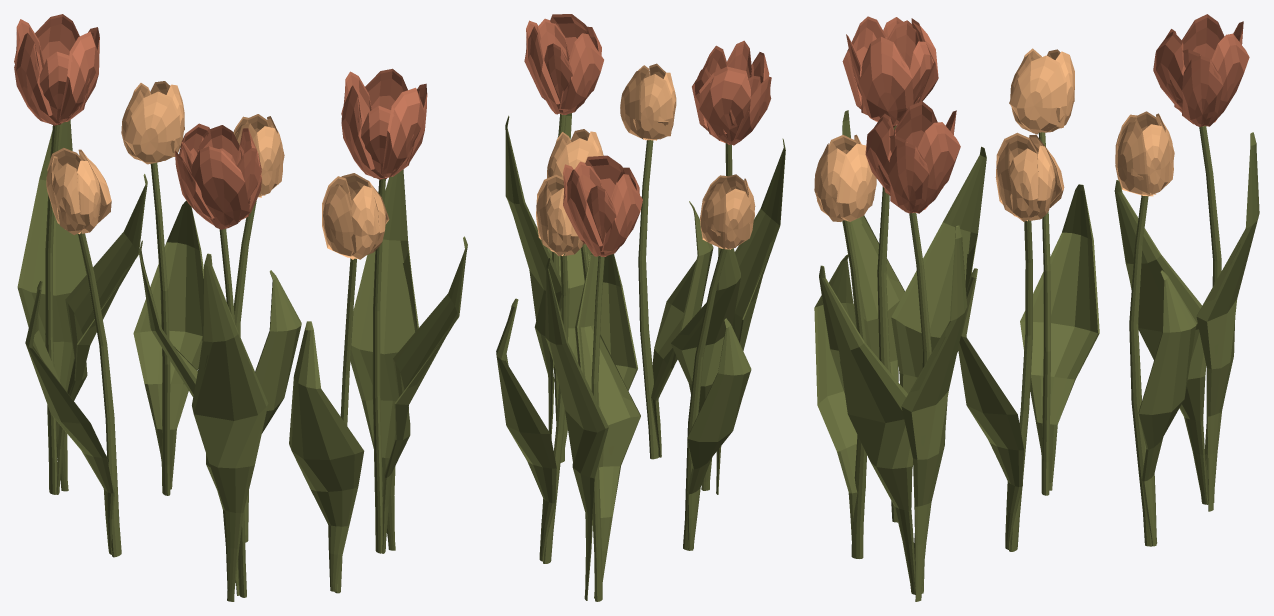
File: Tulip_fixed.fbx
3 views of the same model, side by side, from view 1: azimuth 30°, elevation 25°; view 2: azimuth 150°, elevation 25°; view 3: azimuth 270°, elevation 25° (orthographic). The views are drawn at different scales.
Parts seen in each view (by area): view 1: Tulip_Leaf, Tulip_Flower_Red, Tulip_Flower_Pink, Tulip_Stem; view 2: Tulip_Leaf, Tulip_Flower_Red, Tulip_Flower_Pink, Tulip_Stem; view 3: Tulip_Leaf, Tulip_Flower_Red, Tulip_Flower_Pink, Tulip_Stem.
Boxes of the visible parts, x1,y1,x2,y2 form: Tulip_Leaf: (17, 120, 467, 601); Tulip_Flower_Red: (14, 14, 427, 229); Tulip_Flower_Pink: (46, 81, 389, 259); Tulip_Stem: (45, 125, 385, 597); Tulip_Leaf: (496, 113, 785, 600); Tulip_Flower_Red: (524, 14, 771, 256); Tulip_Flower_Pink: (536, 63, 755, 255); Tulip_Stem: (543, 114, 732, 601); Tulip_Leaf: (814, 110, 1259, 601); Tulip_Flower_Red: (842, 14, 1249, 213); Tulip_Flower_Pink: (814, 48, 1174, 221); Tulip_Stem: (842, 125, 1221, 593).
Size of the model in its own units: 67.44 by 94.84 by 78.79.
